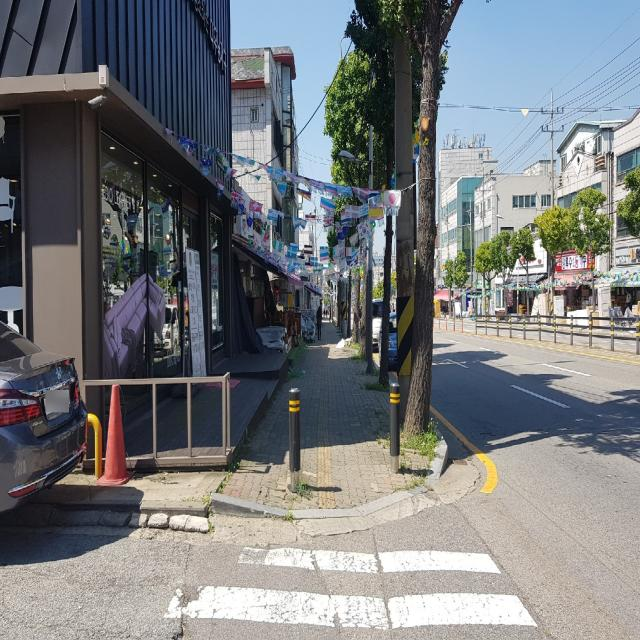횡단보도: (162, 542, 540, 632)
